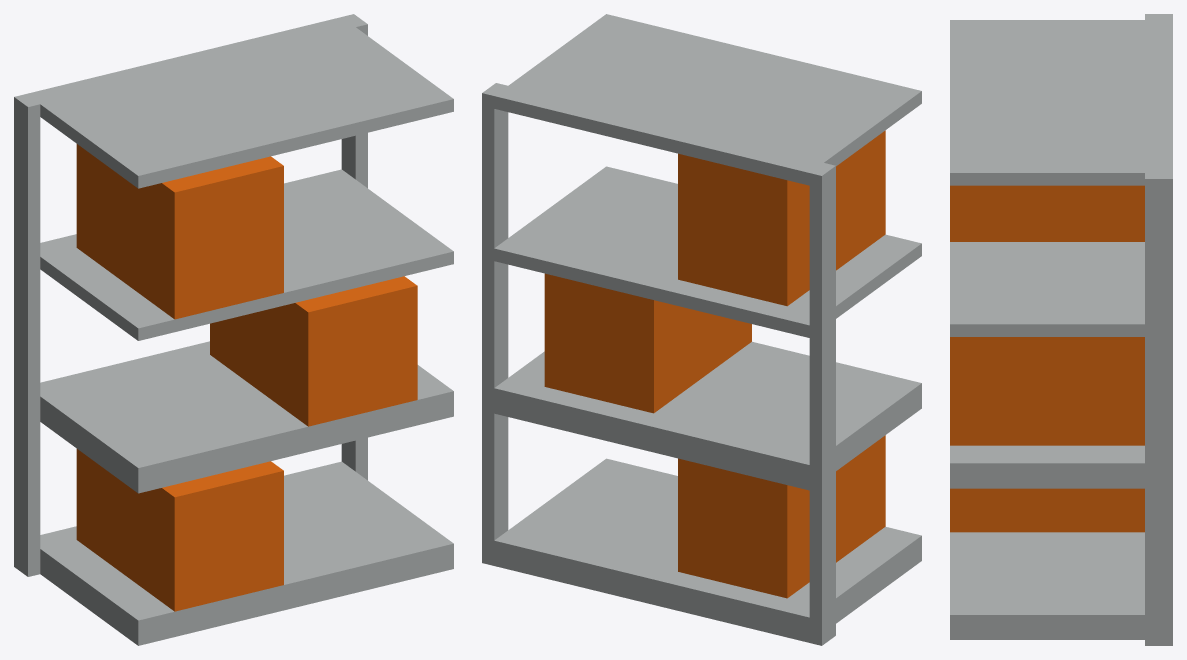
File: shuttle_bus_luggage_rack.glb
3 views of the same model, side by side, from view 1: azimuth 30°, elevation 25°; view 2: azimuth 150°, elevation 25°; view 3: azimuth 270°, elevation 25° (orthographic).
Parts seen in each view (by area): view 1: body:compound; view 2: body:compound; view 3: body:compound.
Boxes of the visible parts, bbox=[...] form: body:compound: bbox=[14, 14, 453, 645]; body:compound: bbox=[482, 14, 921, 645]; body:compound: bbox=[950, 14, 1172, 645].
Size of the model in its own units: 0.875 by 1.16 by 0.5.
